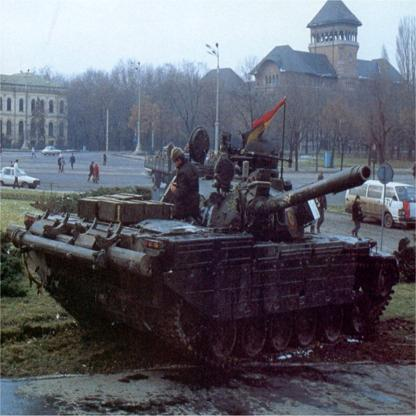Tank: (11, 135, 404, 379)
